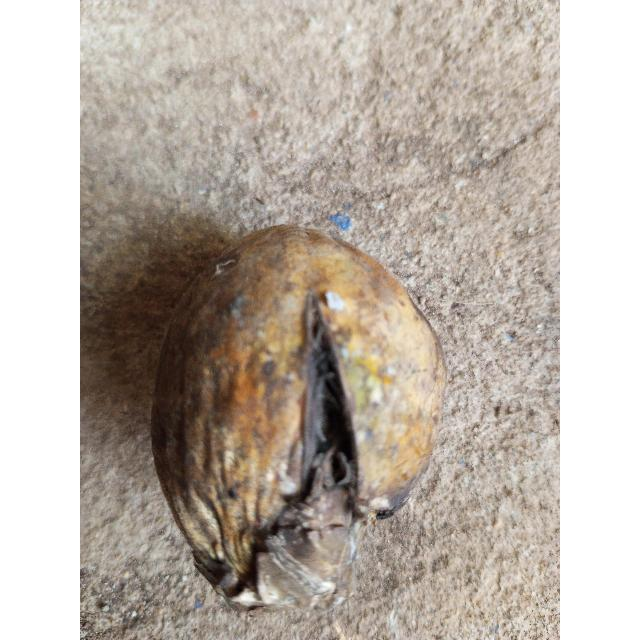damaged: (151, 225, 446, 610)
